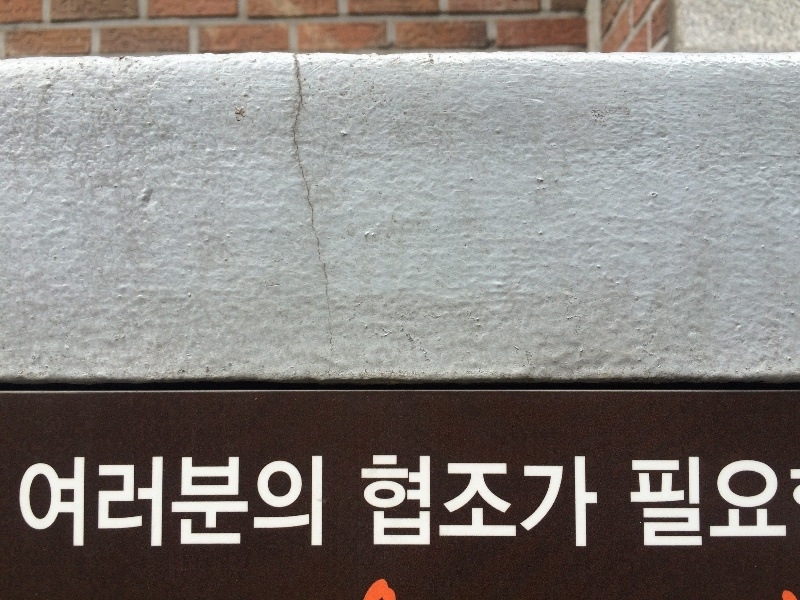text: (641, 458, 656, 553), (657, 458, 672, 553), (673, 458, 688, 553), (689, 458, 704, 553), (705, 458, 720, 553), (721, 458, 736, 553), (737, 458, 752, 553), (753, 458, 768, 553), (769, 458, 784, 553), (33, 457, 48, 549), (49, 457, 64, 549), (65, 457, 80, 549), (81, 457, 96, 549), (97, 457, 112, 549), (113, 457, 128, 549), (129, 457, 144, 549), (145, 457, 160, 549), (161, 457, 176, 549), (177, 457, 192, 549), (193, 457, 208, 549), (209, 457, 224, 549), (225, 457, 240, 549), (241, 457, 256, 549), (257, 457, 272, 549), (273, 457, 288, 549), (289, 457, 304, 549), (305, 457, 320, 549), (369, 457, 384, 549), (385, 457, 400, 549), (401, 457, 416, 549), (417, 457, 432, 549), (433, 457, 448, 549), (449, 457, 464, 549), (465, 457, 480, 549), (481, 457, 496, 549), (497, 457, 512, 549), (513, 457, 528, 549), (529, 457, 544, 549), (545, 457, 560, 549), (561, 457, 576, 549), (577, 457, 592, 549), (22, 457, 32, 549), (632, 458, 640, 553), (593, 457, 599, 549), (363, 457, 368, 549), (785, 458, 789, 553), (791, 471, 800, 507), (321, 457, 322, 549)
